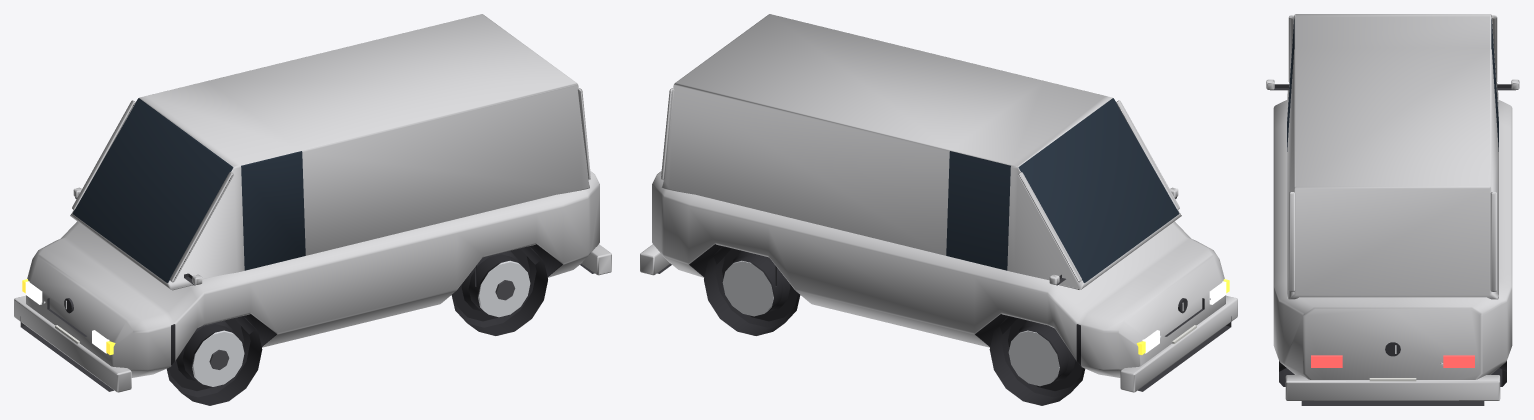
The model's file is mv_transit.glb.
3 renders of one model, left to right at view 1: azimuth 30°, elevation 25°; view 2: azimuth 150°, elevation 25°; view 3: azimuth 270°, elevation 25°, orthographic. The views are drawn at different scales.
Bounding box in the file's own units: 1.9 × 0.8336 × 0.8145.
